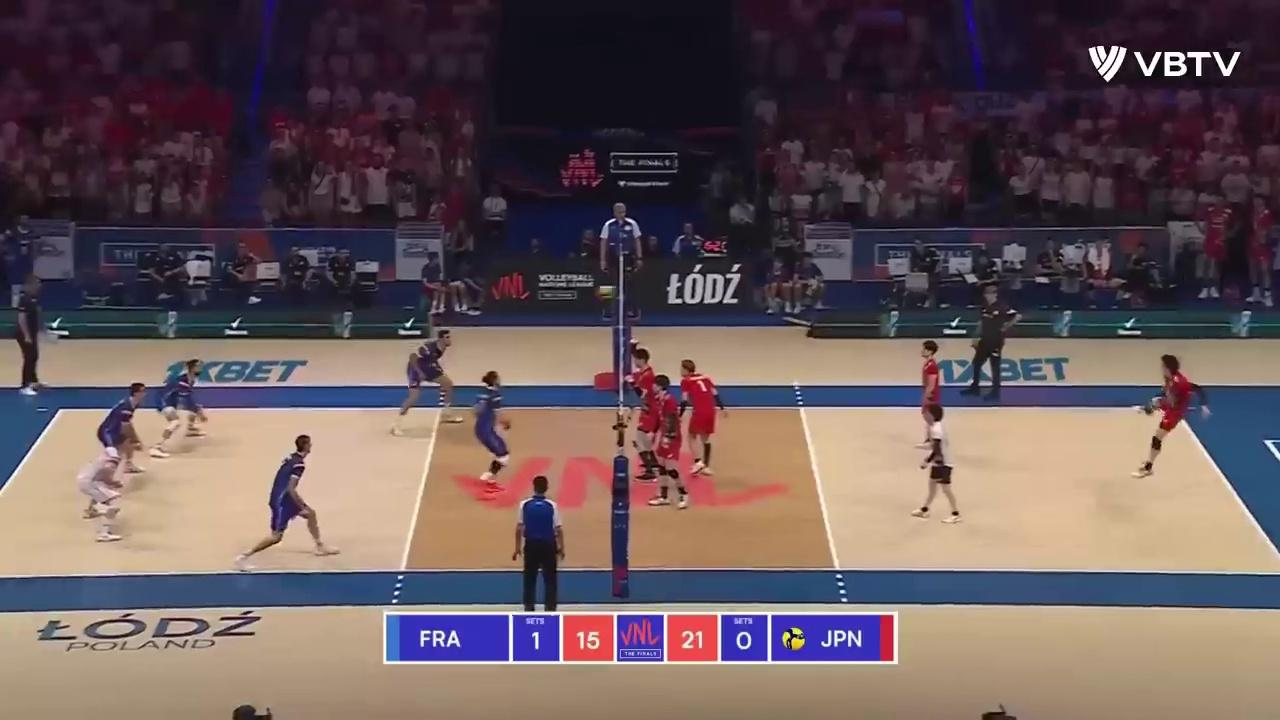ball: (597, 288, 617, 300)
